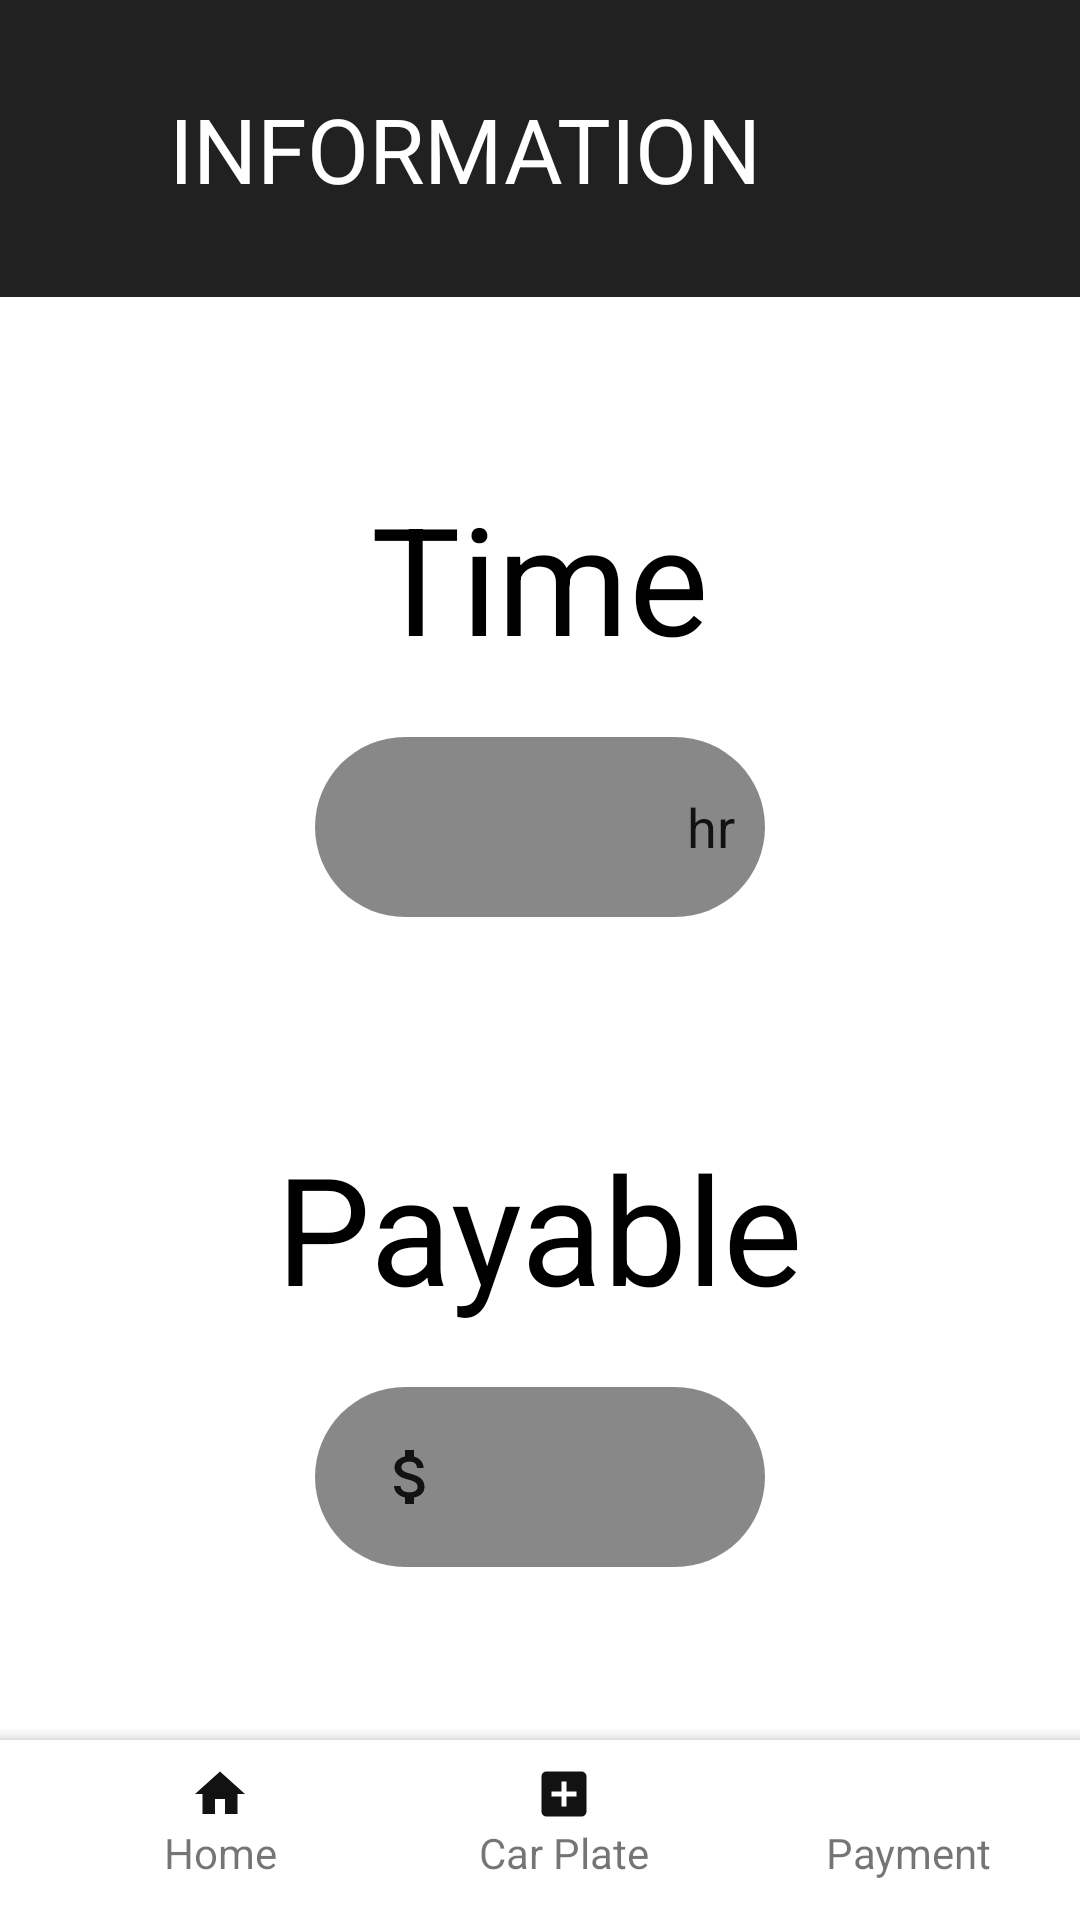

Screen size 1080*1920. Icon name, then its box in pixels as (x1, y1, x2, y2):
add box: (541, 1771, 587, 1817)
